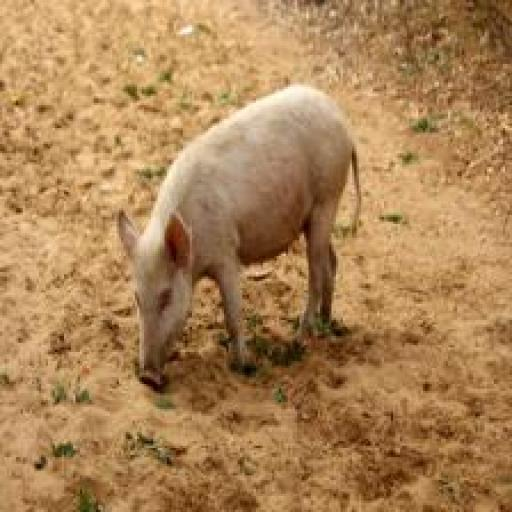Pig: (110, 80, 367, 390)
